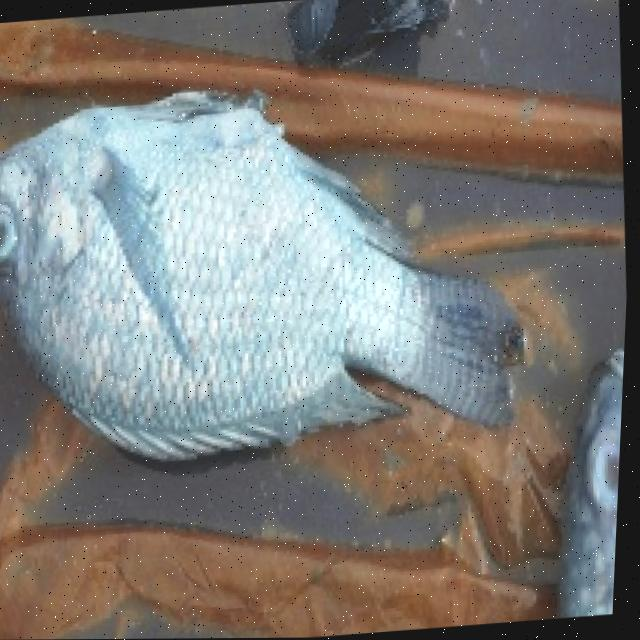Non-Fresh: (0, 90, 328, 413), (0, 193, 28, 280)
